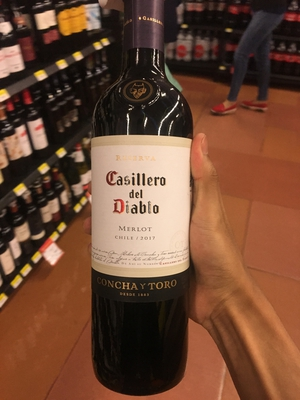casillero del diablo merlot: (84, 10, 197, 382)
